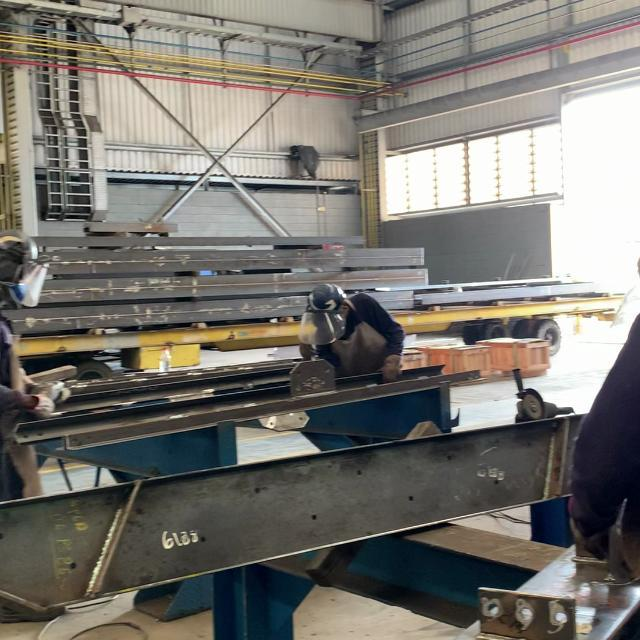face-shield: (297, 311, 348, 349), (12, 262, 50, 306)
glove: (379, 354, 404, 381), (31, 393, 55, 419), (46, 381, 75, 398)
helmet: (305, 283, 352, 315), (1, 238, 38, 268)
person: (2, 233, 72, 419), (297, 286, 407, 381)
